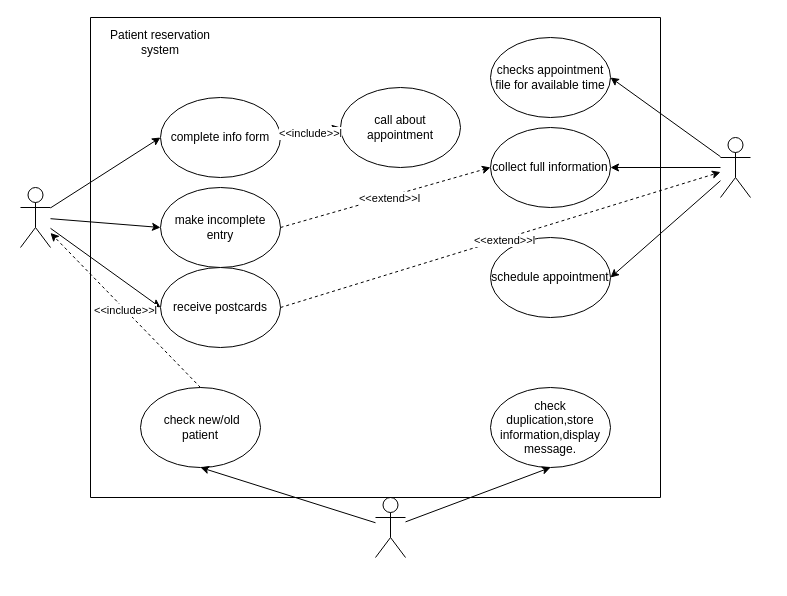
Some shapes in this 787 by 596 pixel diagram are drawn without their labels. The shapes that lost their labels are listed below. From the top down, each one's centre as x and y in pixels, then its label:
At point (735, 167): "Receptionist".
At point (35, 217): "patient".
At point (390, 527): "System".
